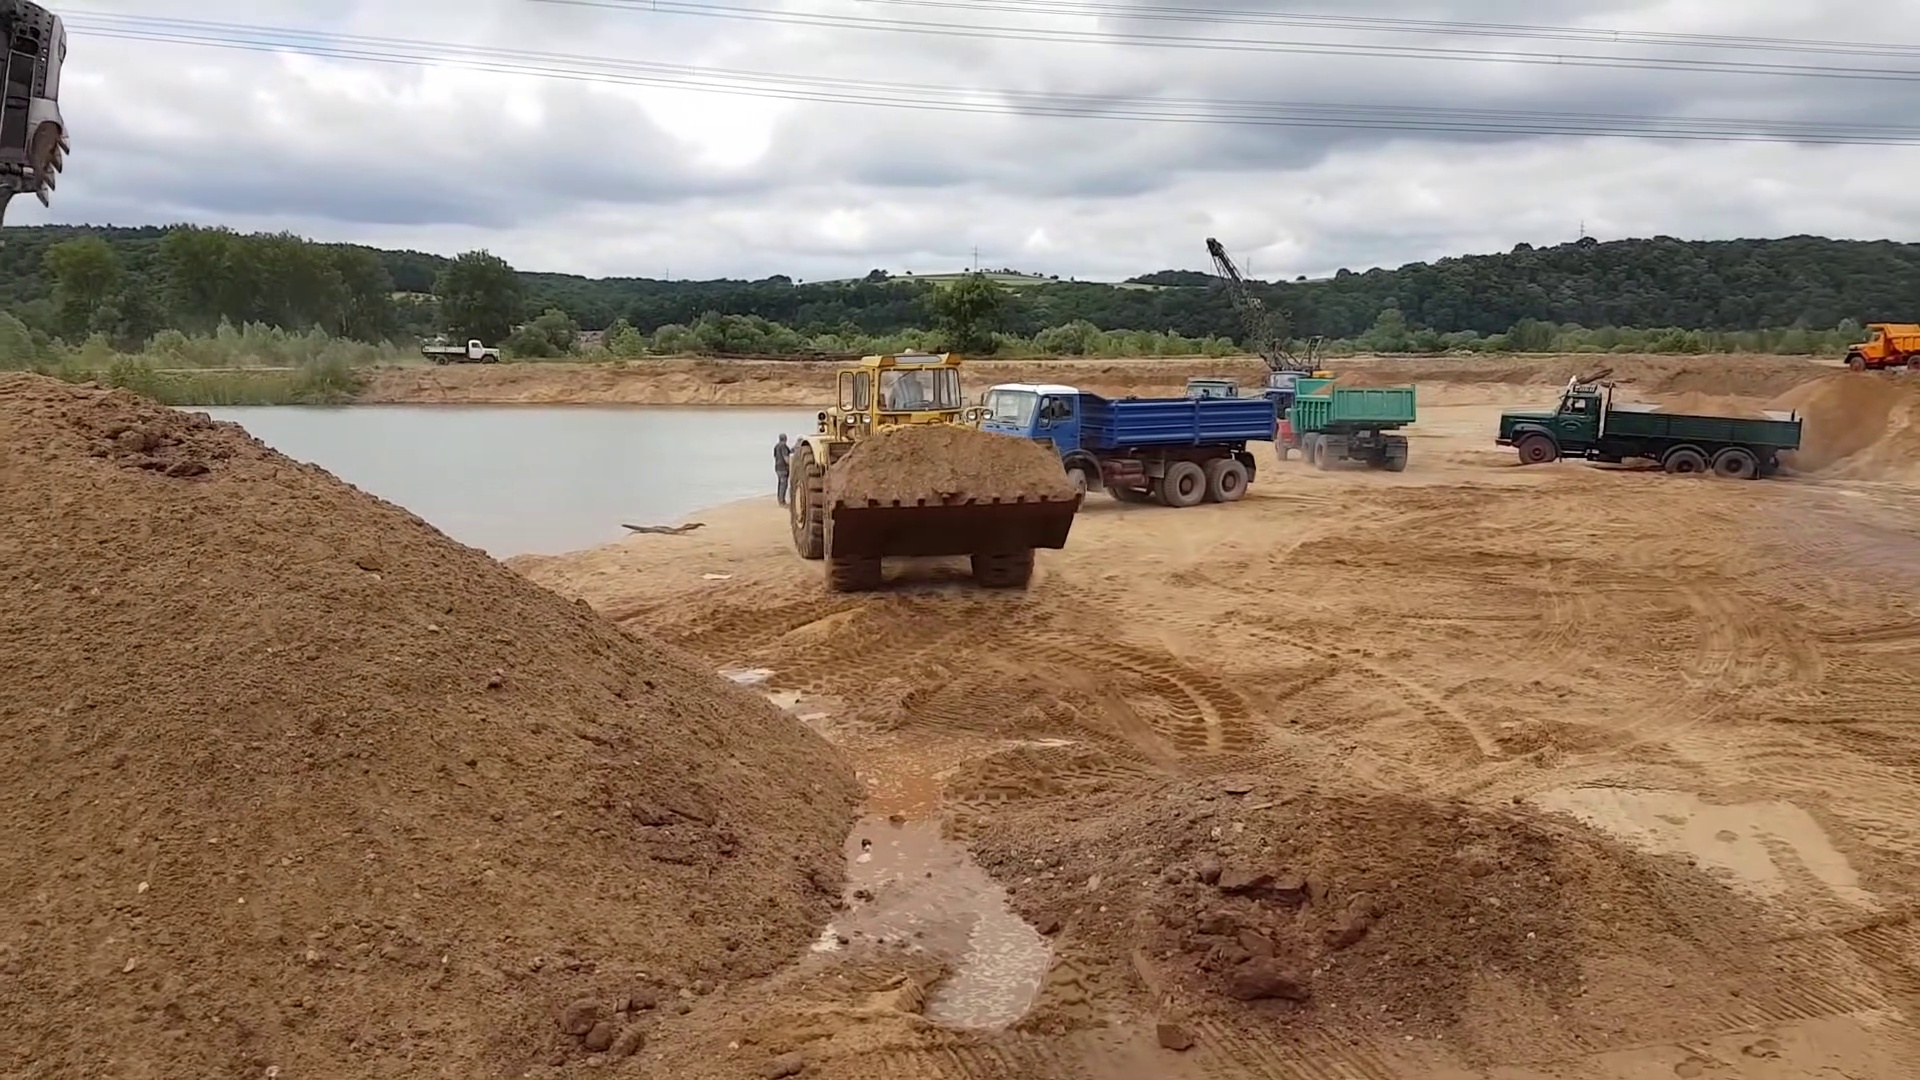person: (761, 431, 802, 497)
truck: (983, 374, 1279, 511), (1498, 377, 1805, 483), (1273, 373, 1416, 472), (414, 329, 507, 369), (1846, 313, 1920, 363)
wheel loader: (787, 344, 1083, 594)
